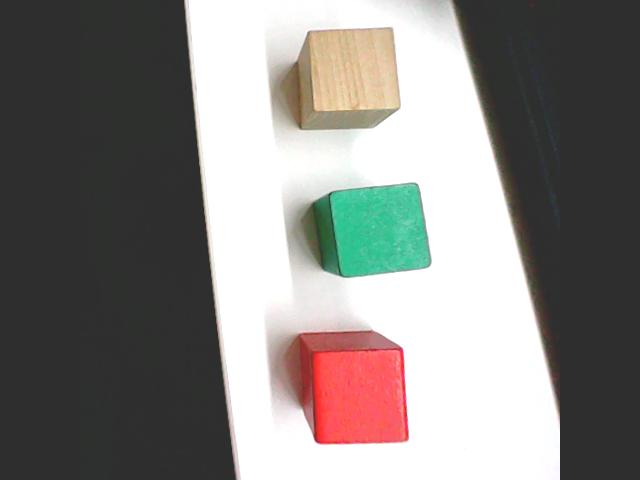green_box: (310, 179, 435, 280)
raw_box: (294, 23, 404, 132)
red_box: (295, 327, 413, 448)
